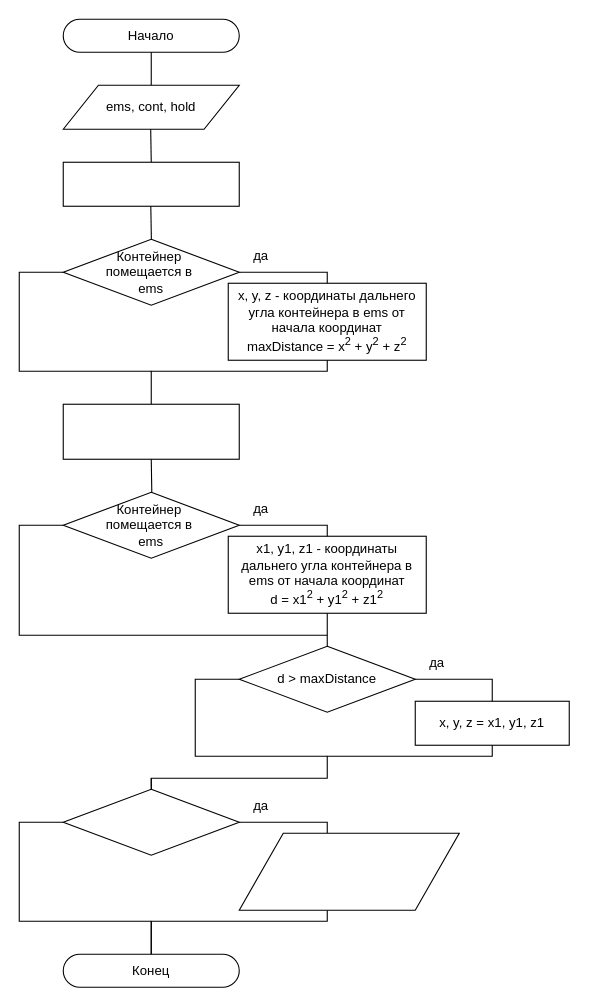
Some shapes in this 589 by 1007 pixel diagram are drawn without their labels. Here are the shapes that lost their labels. From the top down, the box of each, then its label:
(62, 161, 239, 206): maxDistance = -1
(62, 403, 239, 459): Повернуть контейнер cont.length = cont.width cont.width = cont.length
(62, 788, 239, 855): maxDistance != -1
(238, 832, 459, 910): Координаты упакованного в ems контейнера cont.x0, cont.y0, cont.z0, x, y, z
